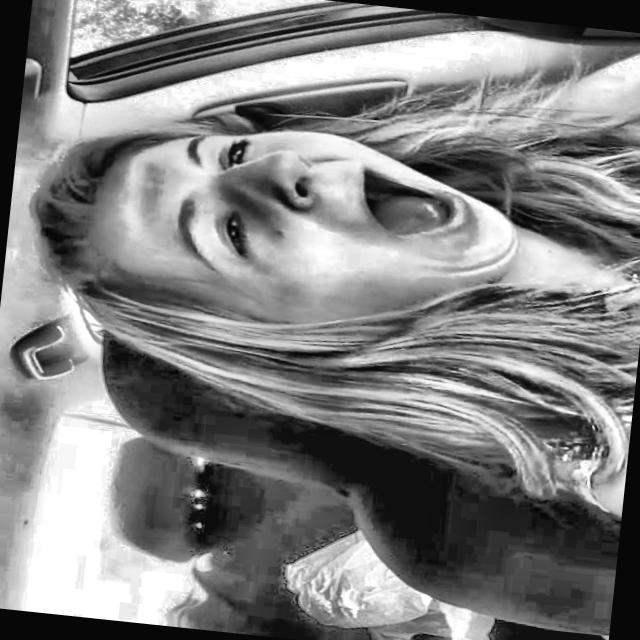open_eyes: (206, 204, 264, 269), (203, 133, 263, 180)
open_mouth: (339, 151, 472, 257)
